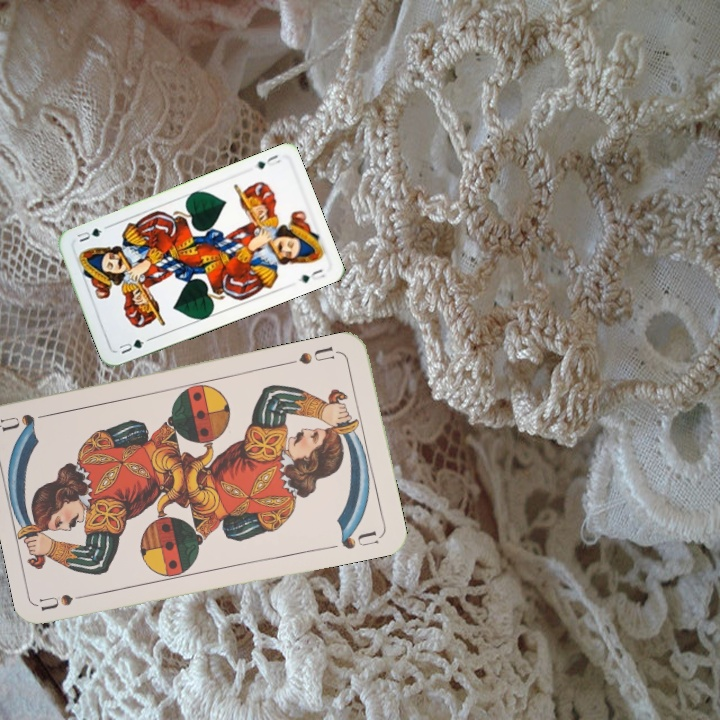GU: (250, 150, 283, 172), (115, 335, 147, 357)
SU: (284, 342, 343, 367), (37, 589, 97, 613)
